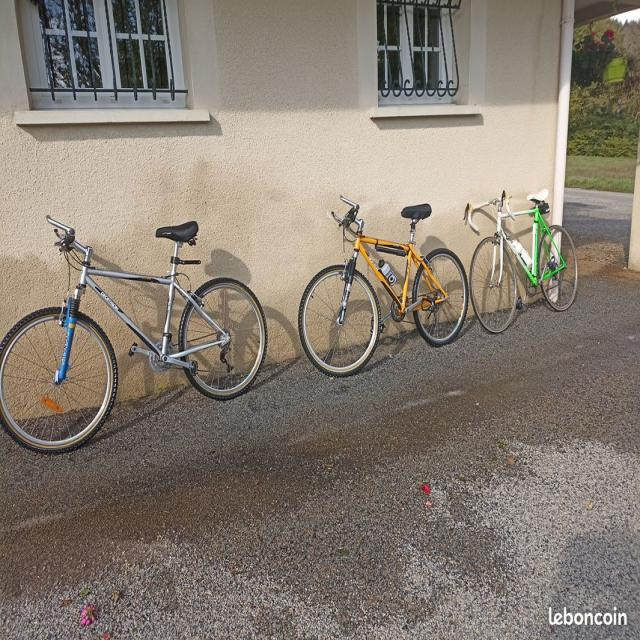Bike: (1, 218, 267, 455), (298, 194, 470, 378), (463, 189, 579, 335)
